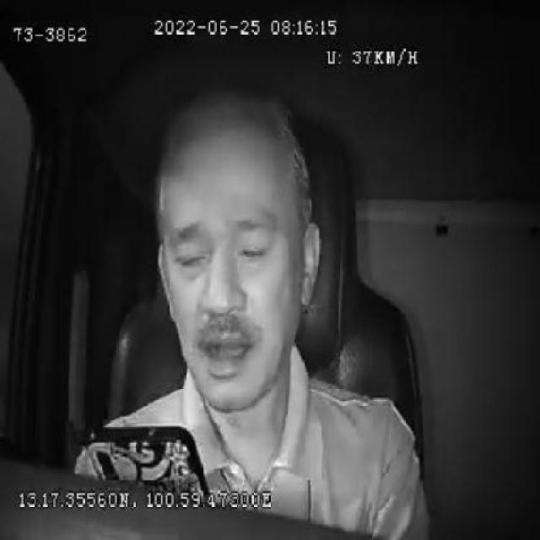phone: (87, 423, 212, 492)
